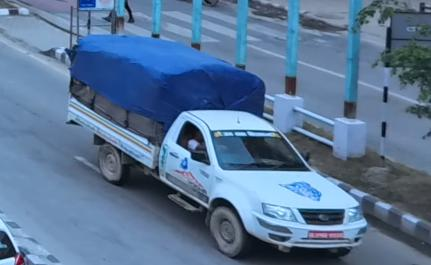car: (0, 205, 28, 265)
transport_vehicle: (67, 23, 368, 258)
